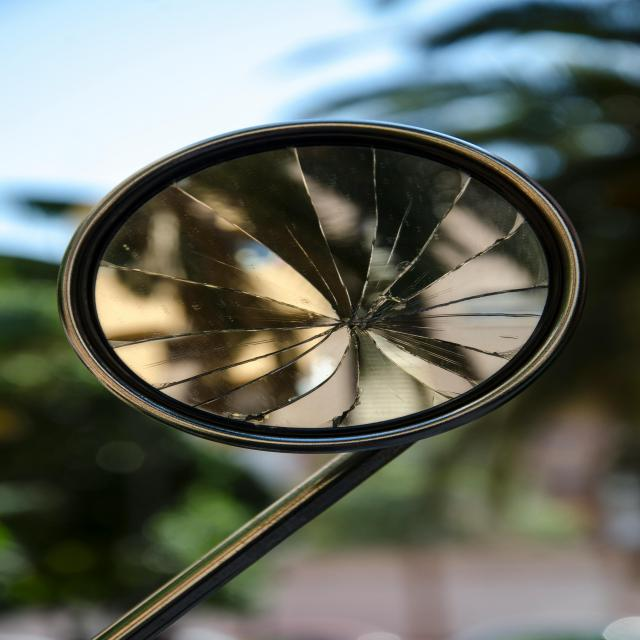electronic: (55, 121, 587, 456)
